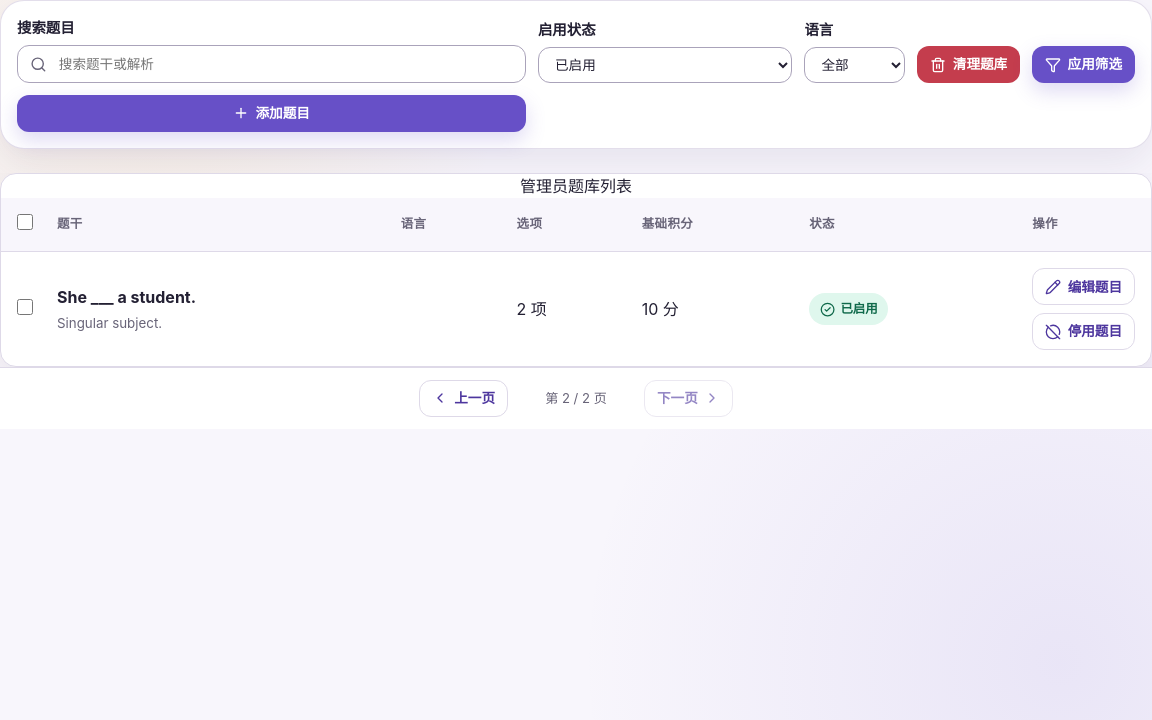
it: 管理员运营页面 › 题库第二页最后一条停用后按当前筛选重载并回到有效末页
Click the button "停用题目" at (1084, 332), box [1032,313,1135,350]
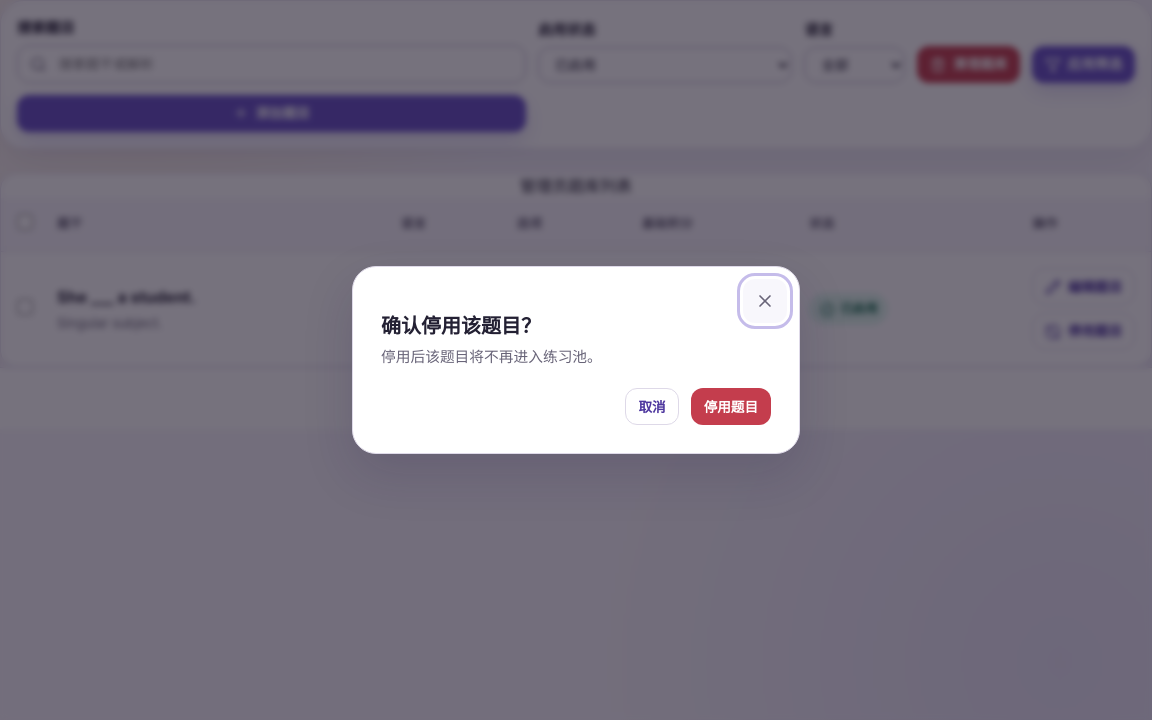
Click the button "停用题目" at (731, 407), box [691,388,771,425]
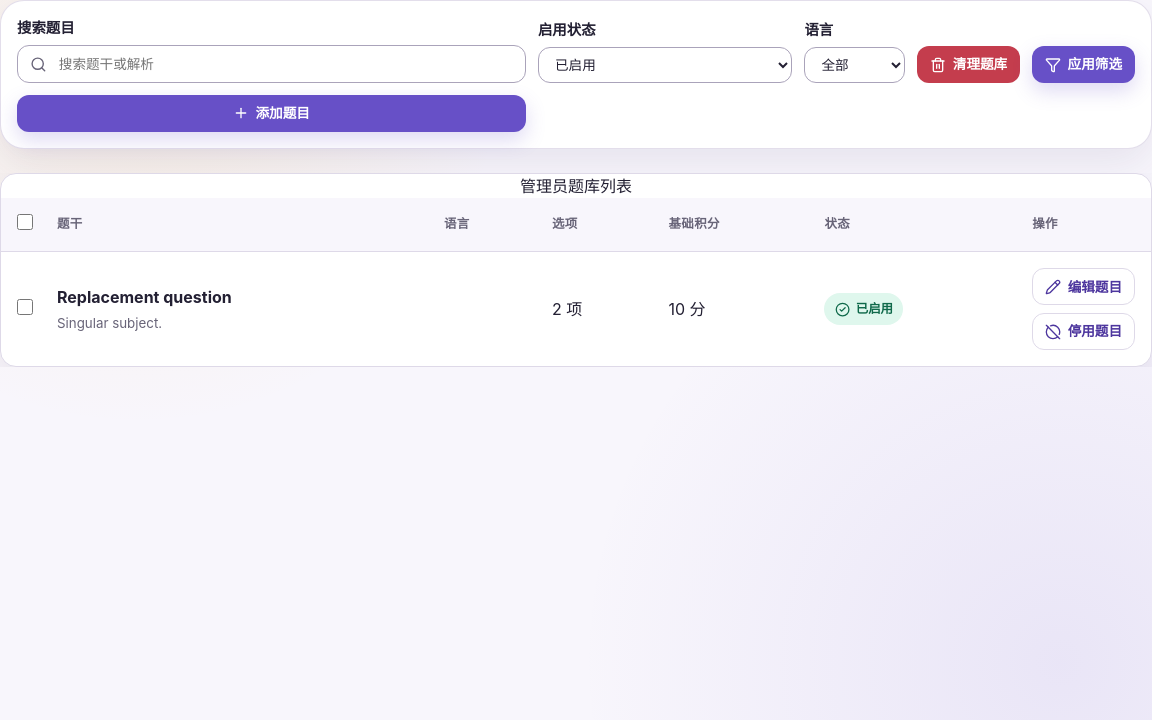
Expected: the text "Replacement question" is shown, [57,287,232,307]
